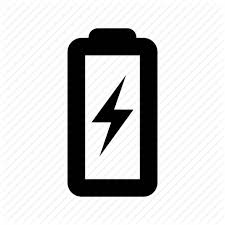charging sign: (51, 16, 174, 200)
